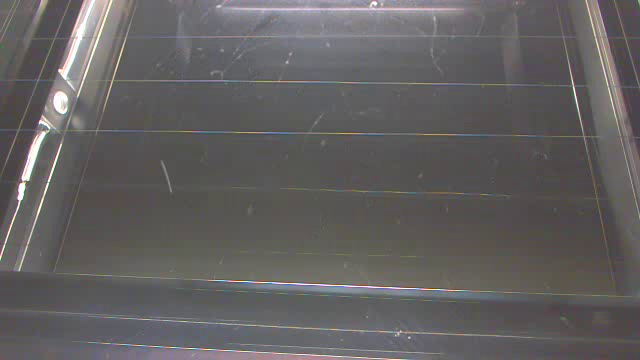alpha: (159, 158, 174, 195)
